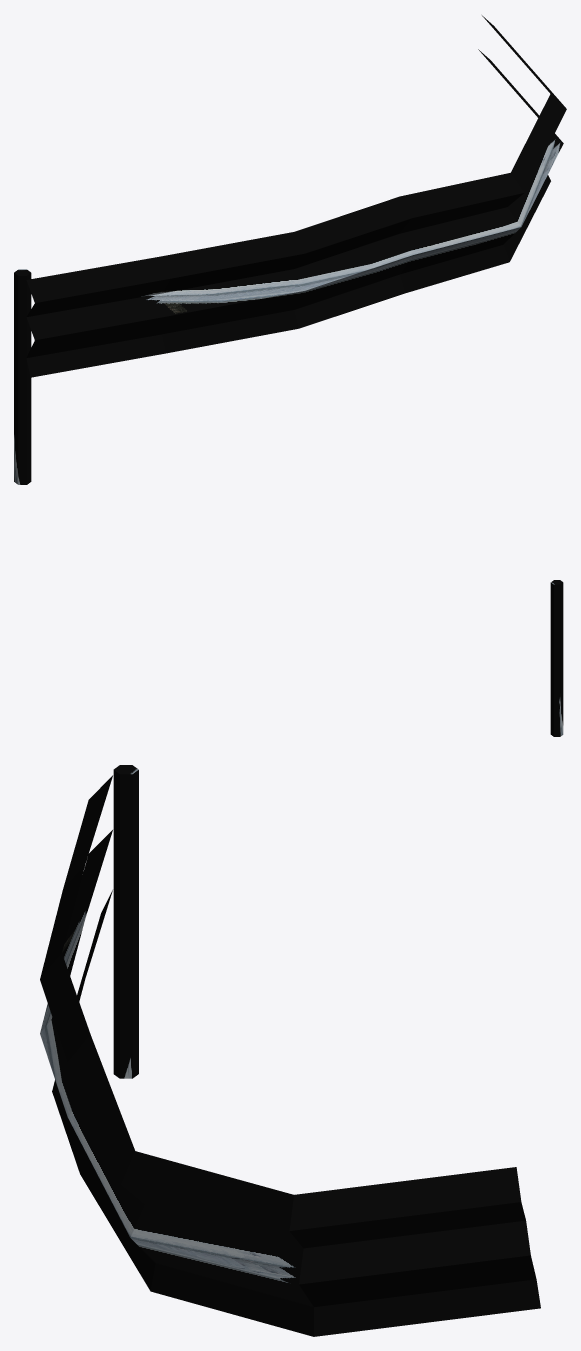
Rendered from road_barrier_broken.glb.
3 renders of one model, top to bottom at view 1: azimuth 30°, elevation 25°; view 2: azimuth 150°, elevation 25°; view 3: azimuth 270°, elevation 25°, orthographic. The views are drawn at different scales.
Parts seen in each view (by area): view 1: railguard, pole; view 2: pole; view 3: railguard, pole.
Part boxes in pixels (<box>): railguard: <box>26,15,566,377</box>; pole: <box>14,269,31,484</box>; pole: <box>550,580,563,736</box>; railguard: <box>40,775,540,1336</box>; pole: <box>113,765,138,1078</box>.
Size of the model in its own units: 1.63 by 0.5706 by 0.7906.
Materials: 2 (2 with a texture image).
